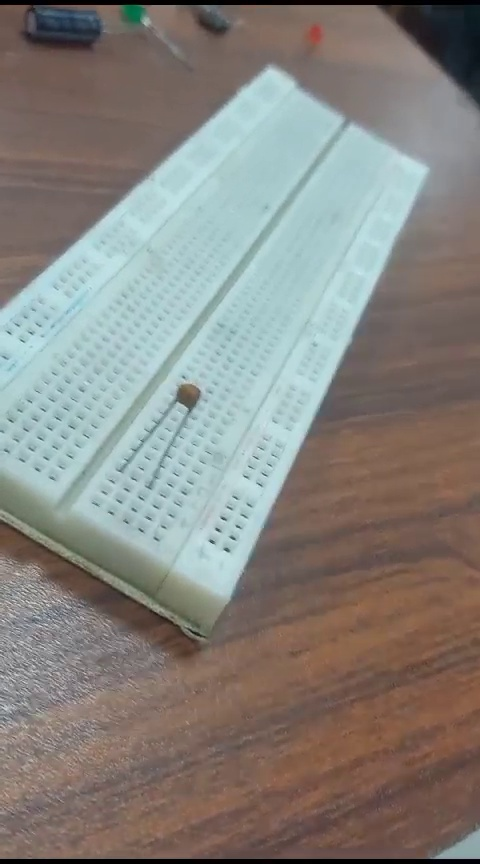ceramic capacitor: (111, 379, 204, 492)
